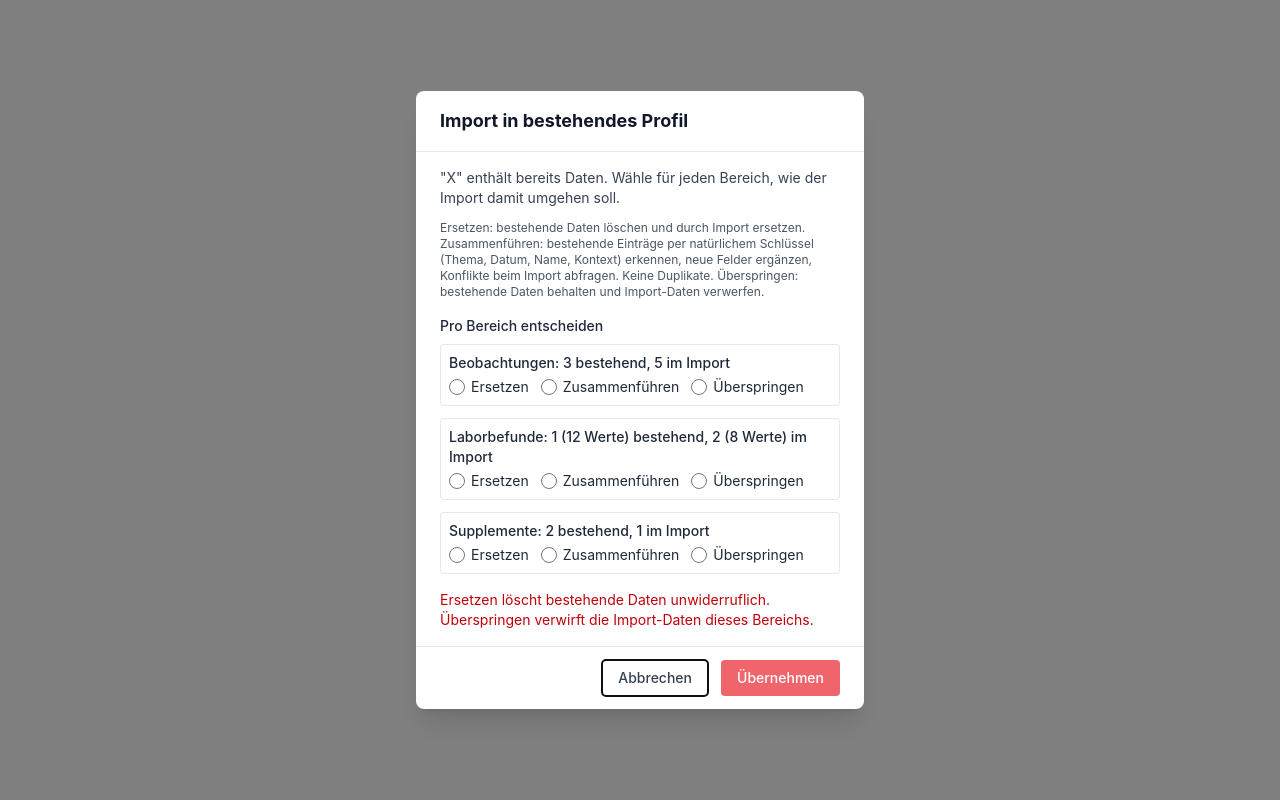
Test: ConfirmDialog (IM-05 Option B) › no default mode: confirm disabled until every visible row has a mode picked
expect the button "Übernehmen" is disabled: met, box [721,660,840,696]
Click the radio button with test id "confirm-row-observations-replace" at (457, 387), box [449,379,465,395]
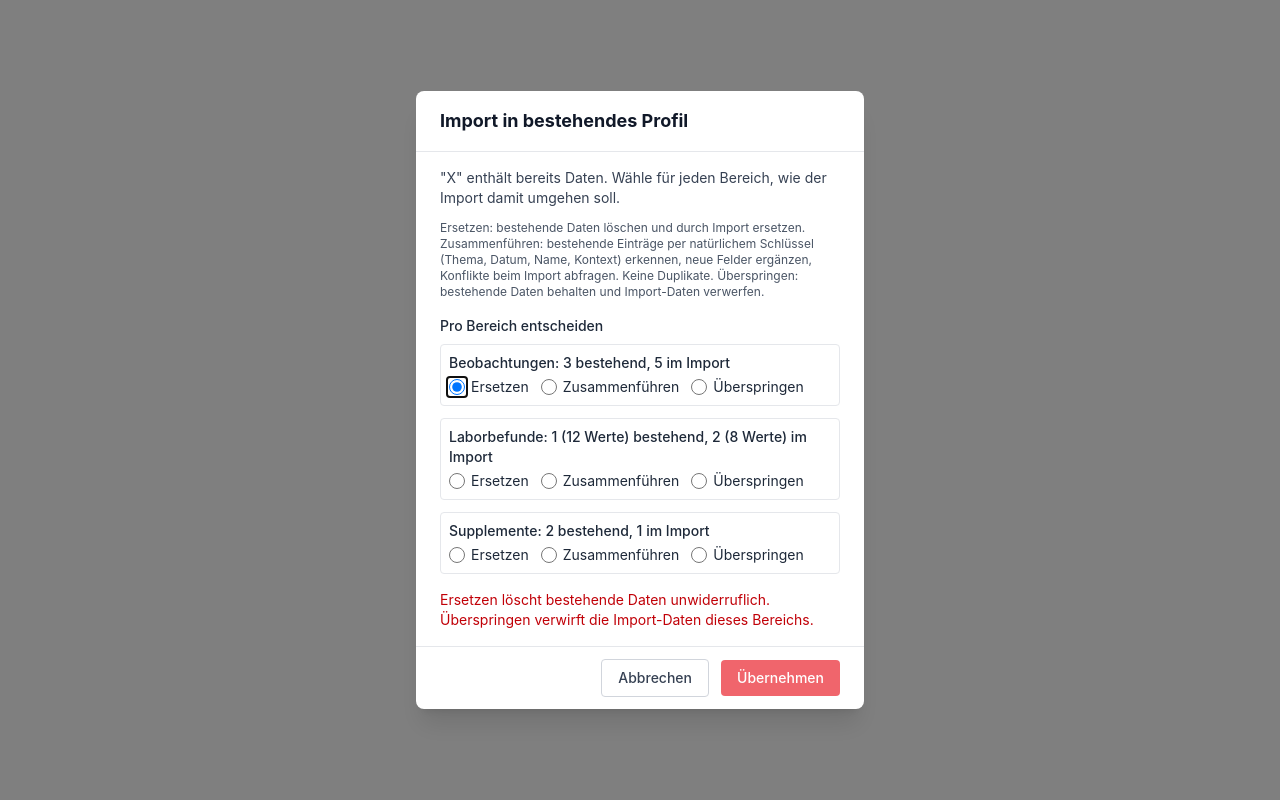
expect the button "Übernehmen" is disabled: met, box [721,660,840,696]
Click the radio button with test id "confirm-row-labData-replace" at (457, 481), box [449,473,465,489]
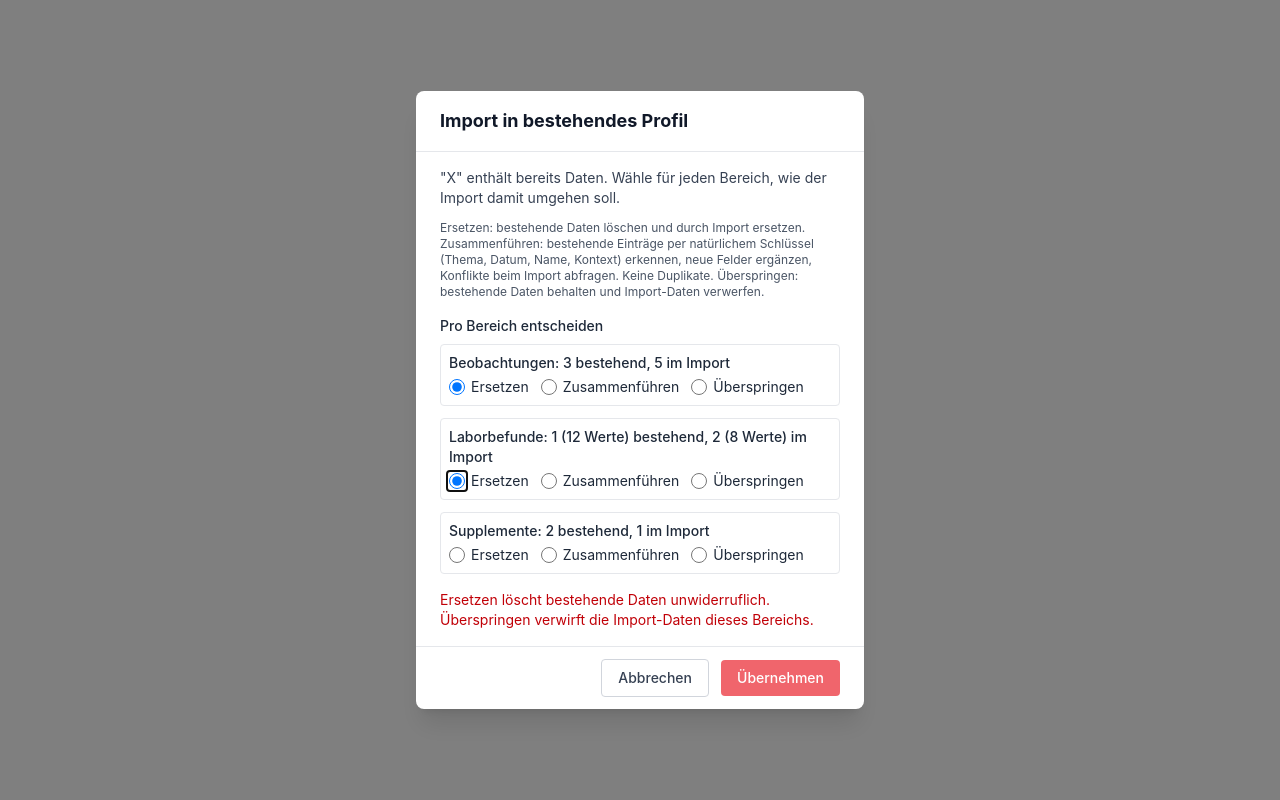
expect the button "Übernehmen" is disabled: met, box [721,660,840,696]
Click the radio button with test id "confirm-row-supplements-replace" at (457, 555), box [449,547,465,563]
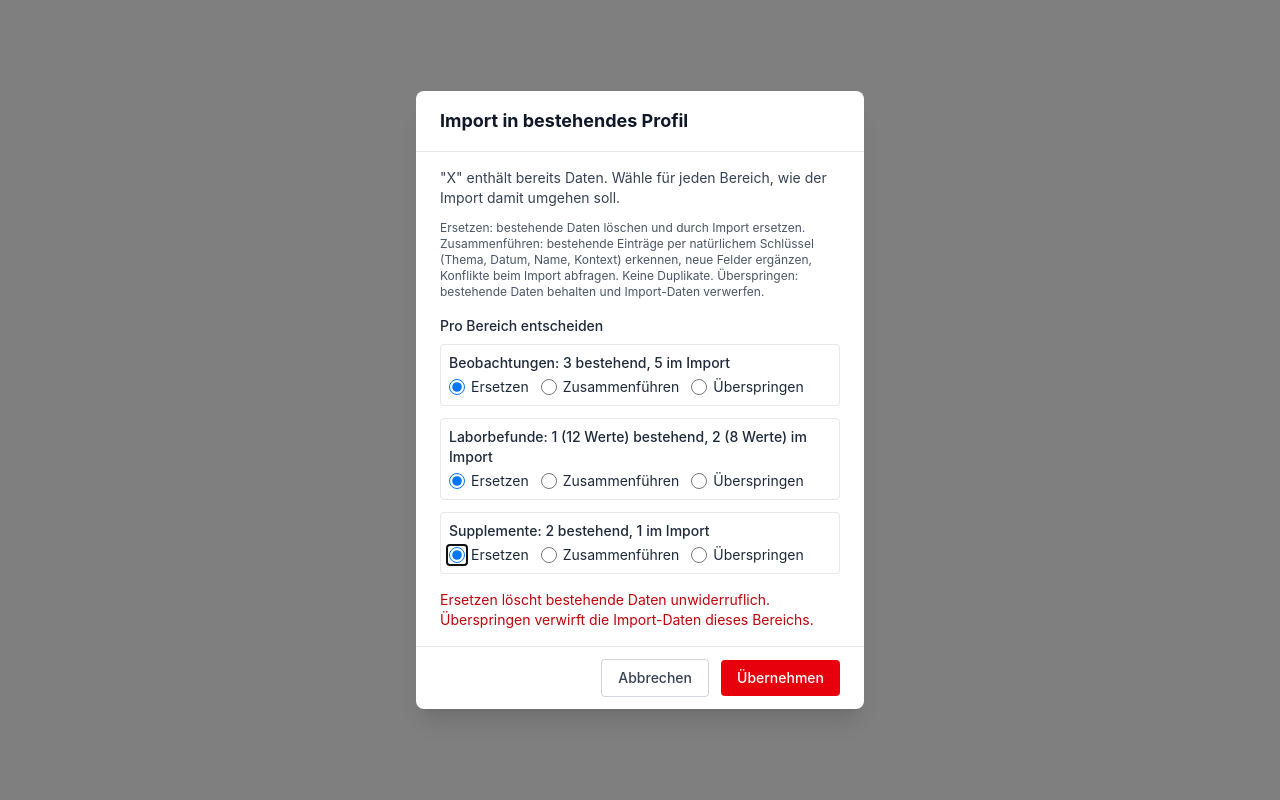
expect the button "Übernehmen" is enabled: met, box [721,660,840,696]
